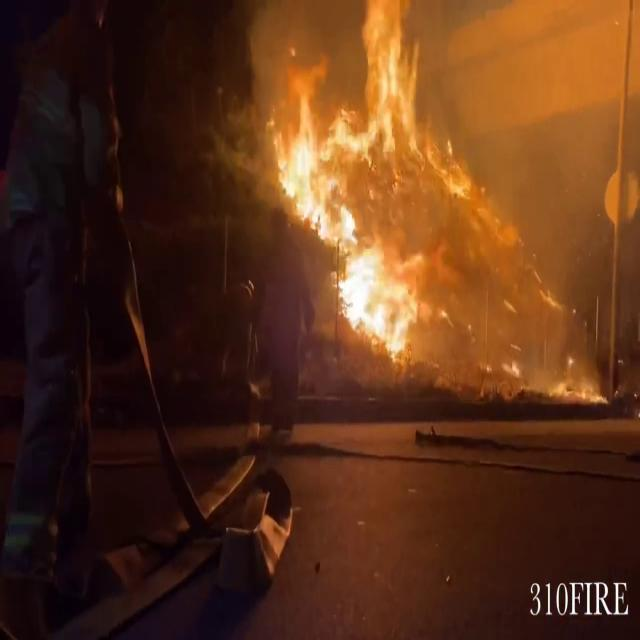Fire: (260, 1, 445, 368)
